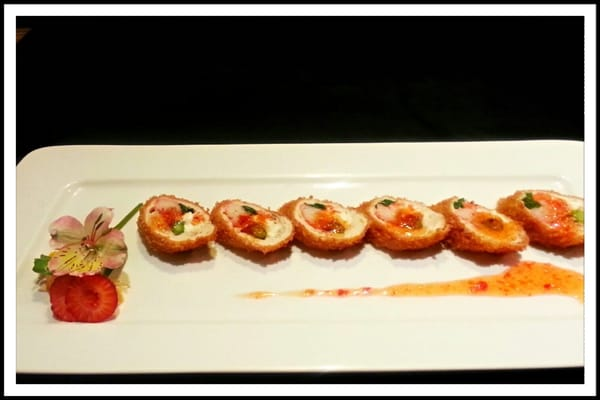steak: (136, 193, 216, 254)
